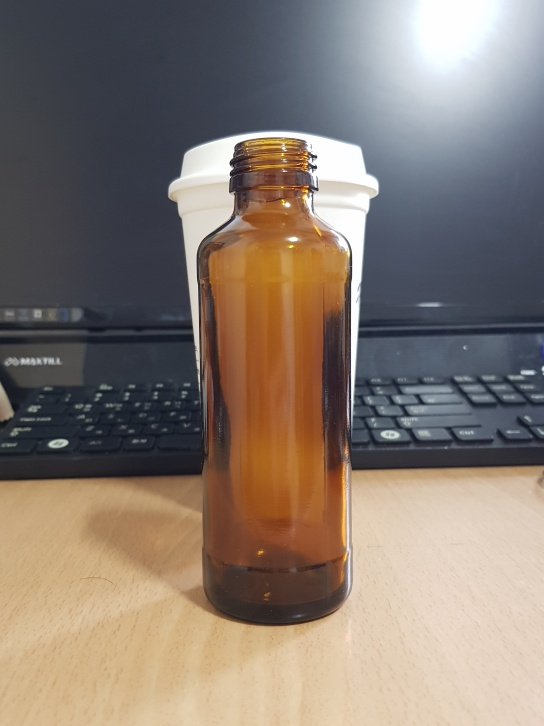Glass: (194, 136, 355, 628)
